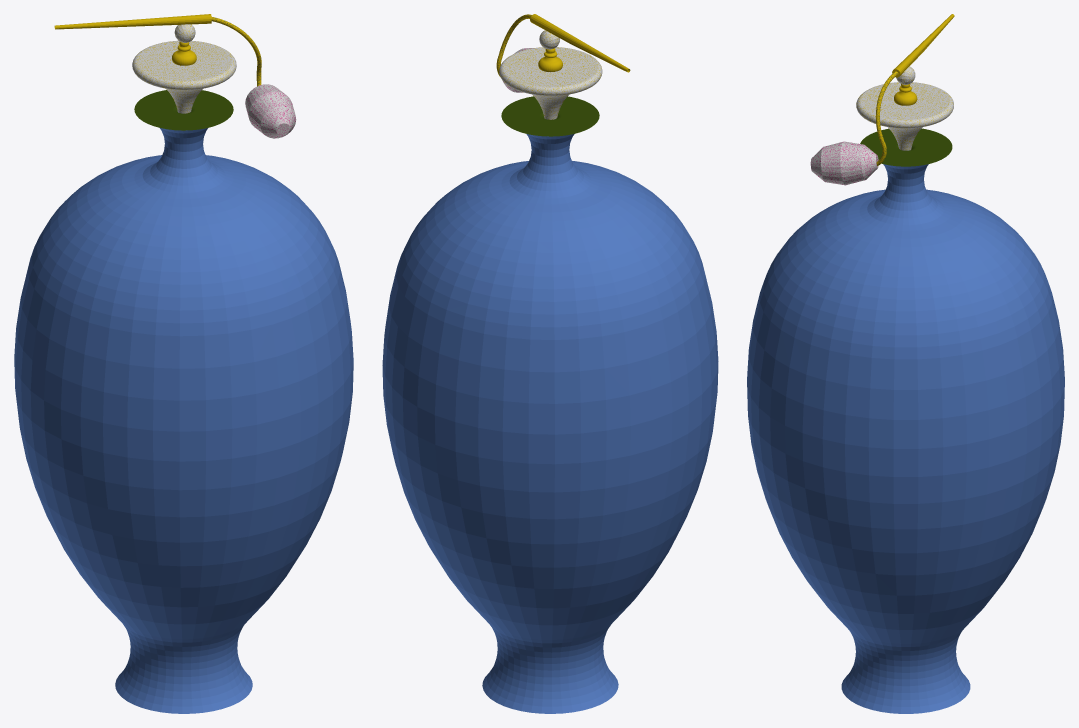
3 views of the same model, side by side, from view 1: azimuth 30°, elevation 25°; view 2: azimuth 150°, elevation 25°; view 3: azimuth 270°, elevation 25° (orthographic). The views are drawn at different scales.
Visible parts, largest first — view 1: mesh7_mesh7-geometry, mesh5_mesh5-geometry, mesh31_mesh31-geometry, mesh1_mesh1-geometry; view 2: mesh7_mesh7-geometry, mesh5_mesh5-geometry, mesh1_mesh1-geometry; view 3: mesh7_mesh7-geometry, mesh5_mesh5-geometry, mesh31_mesh31-geometry, mesh1_mesh1-geometry.
Boxes of the visible parts, x1=… form: mesh7_mesh7-geometry: x1=14, y1=90, x2=353, y2=713; mesh5_mesh5-geometry: x1=132, y1=40, x2=236, y2=113; mesh31_mesh31-geometry: x1=245, y1=84, x2=296, y2=138; mesh1_mesh1-geometry: x1=54, y1=14, x2=261, y2=86; mesh7_mesh7-geometry: x1=382, y1=96, x2=718, y2=713; mesh5_mesh5-geometry: x1=499, y1=47, x2=602, y2=119; mesh1_mesh1-geometry: x1=496, y1=14, x2=630, y2=76; mesh7_mesh7-geometry: x1=747, y1=128, x2=1064, y2=713; mesh5_mesh5-geometry: x1=856, y1=82, x2=953, y2=150; mesh31_mesh31-geometry: x1=810, y1=141, x2=878, y2=185; mesh1_mesh1-geometry: x1=875, y1=14, x2=954, y2=165.
Bounding box in the file's own units: 0.3849 × 0.8389 × 0.3848.
